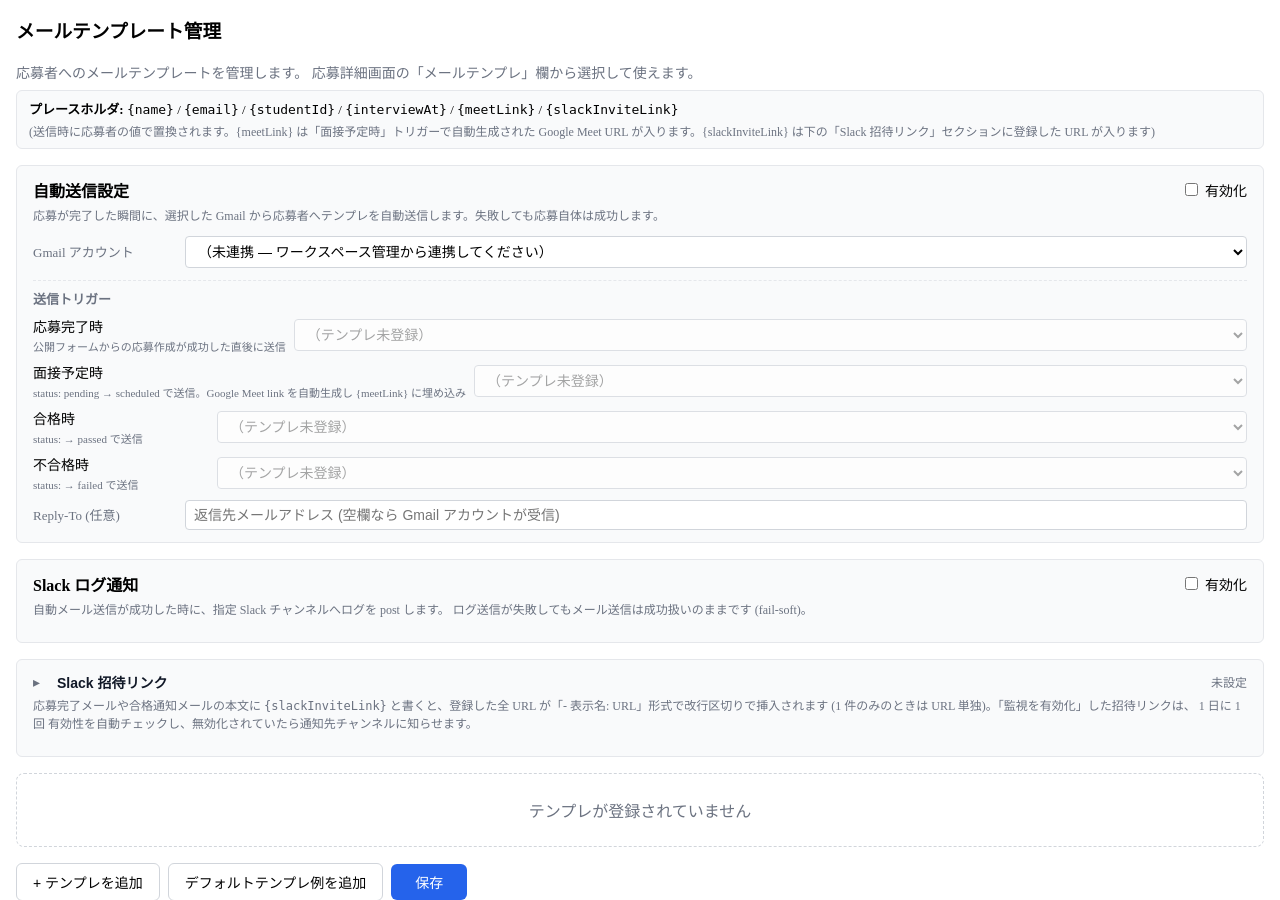
EmailTemplatesEditor smoke (Phase4-4 分割対象 番人) › LogToSlackSection: 有効化トグルで通知先 / メンション / メッセージが現れる
The width and height of the screenshot is (1280, 900).
expect the text "通知先" is not shown: met
What coordinates should you click on to do the following:
click the checkbox labelled "有効化" in the row of "Slack ログ通知"
I would click on:
 (1192, 584)
Its box is [1185,577,1198,590].
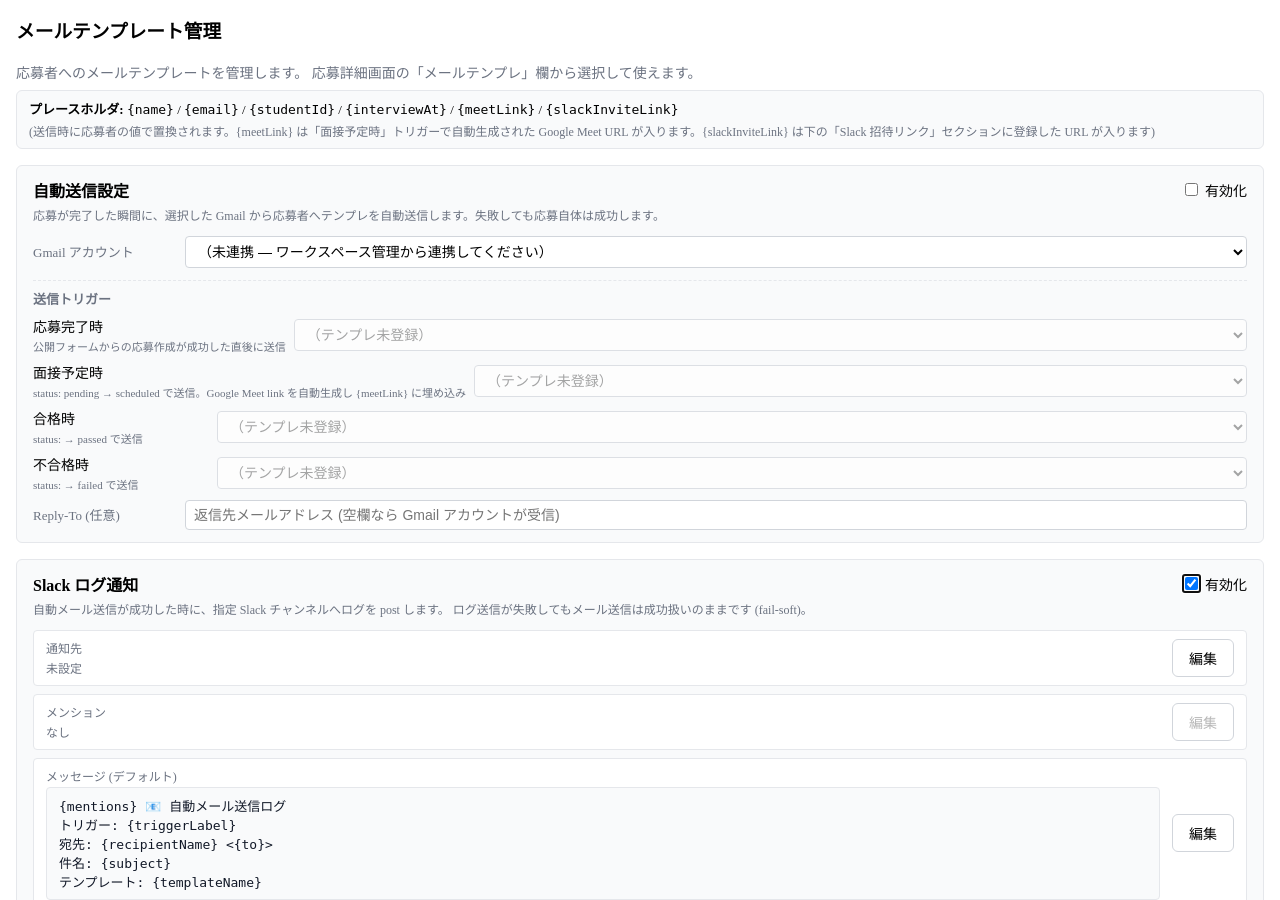
expect the text "通知先" is shown: met, box [46,642,82,656]
expect the text "メンション" is shown: met, box [46,706,106,720]
expect the text "メッセージ (デフォルト)" is shown: met, box [46,770,177,784]
